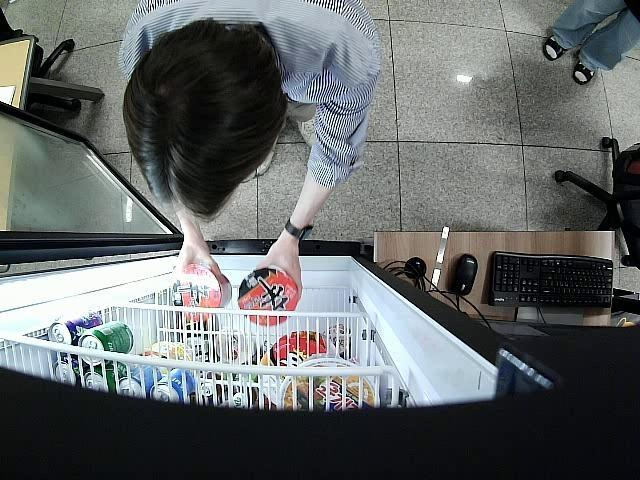01_ShinRamen_L: (168, 265, 232, 324), (240, 268, 300, 328)
